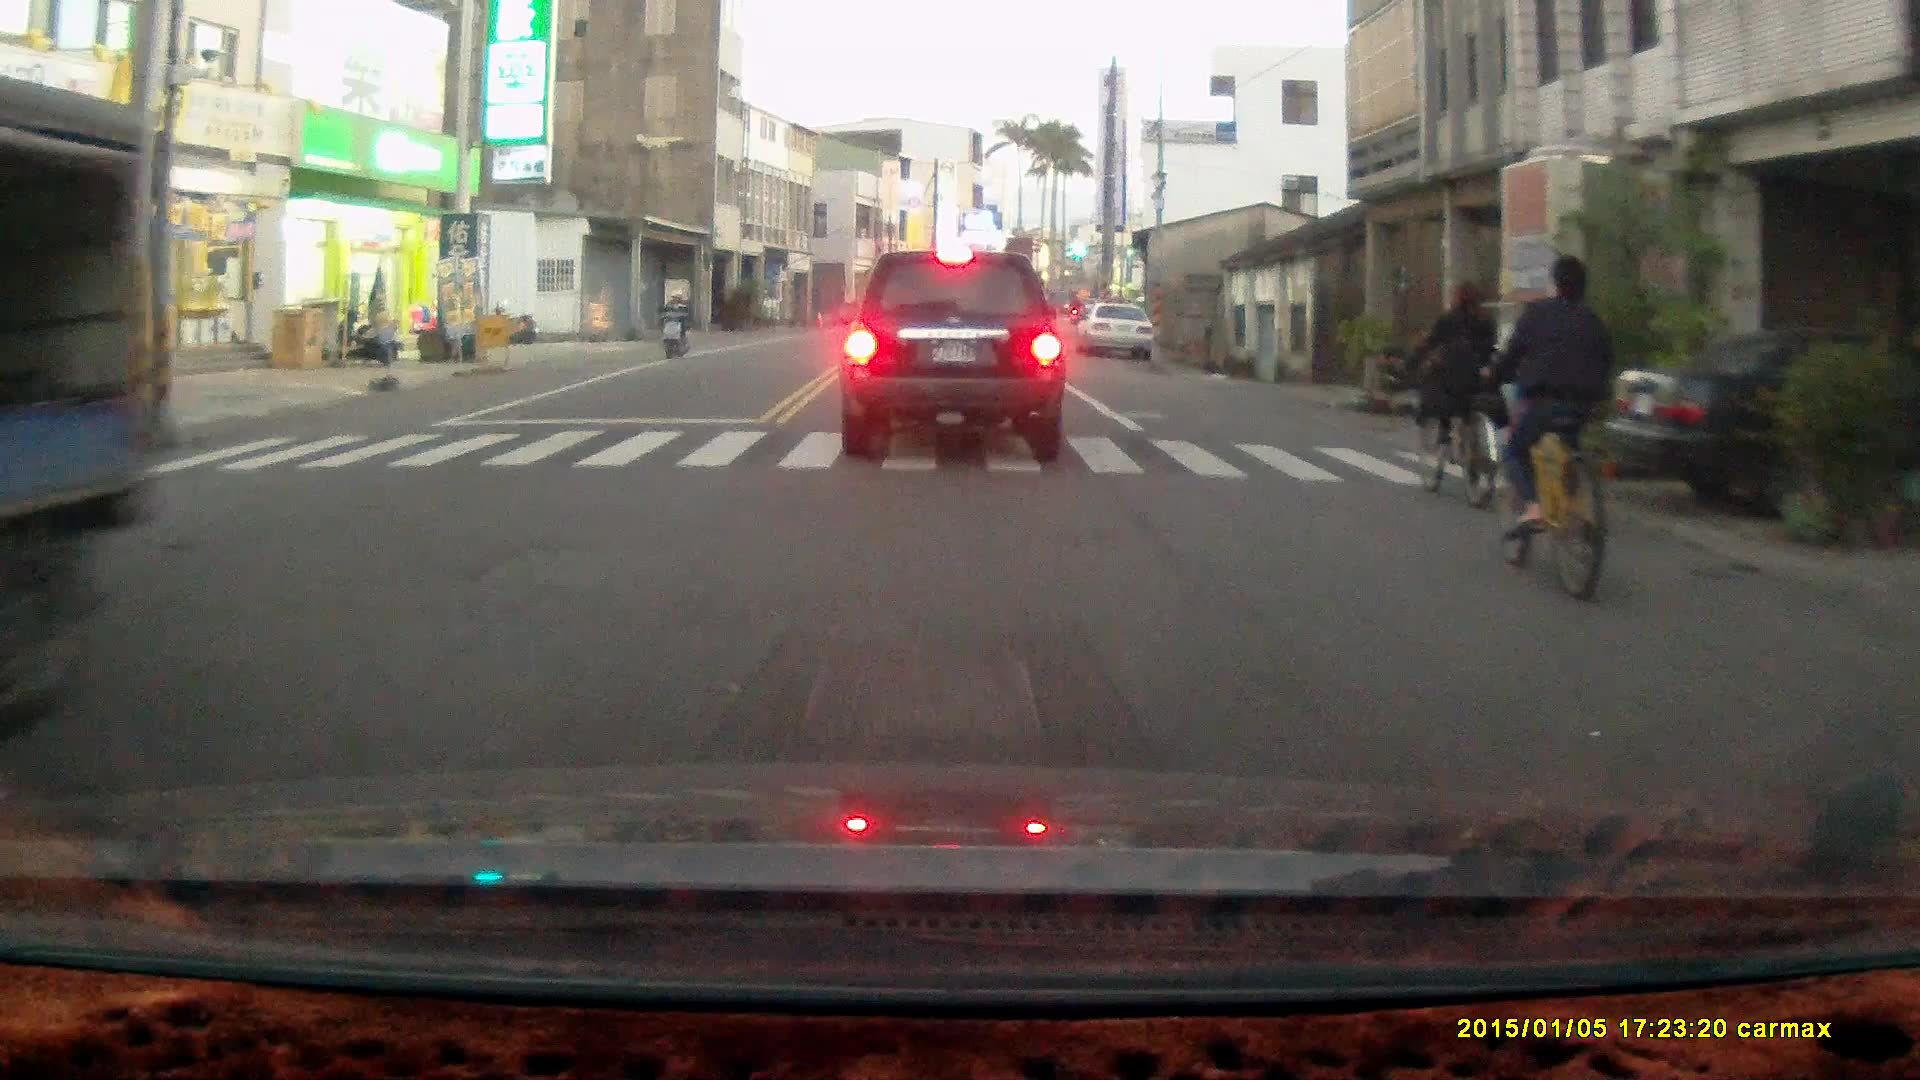rider: (1474, 252, 1613, 604), (1401, 278, 1499, 512), (657, 285, 691, 362)
vehicle: (1, 68, 180, 746), (1604, 328, 1920, 520), (834, 246, 1073, 461), (1082, 304, 1158, 364)
